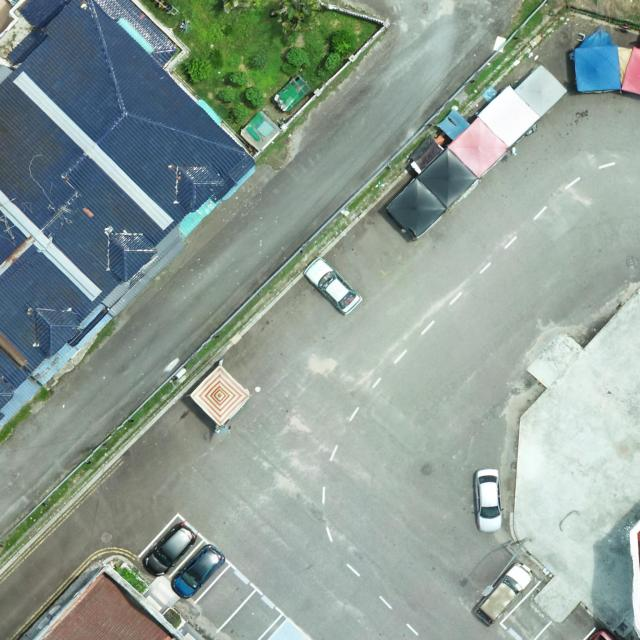Tree: (274, 0, 325, 32), (186, 56, 212, 84), (330, 30, 353, 58), (286, 46, 310, 68)
